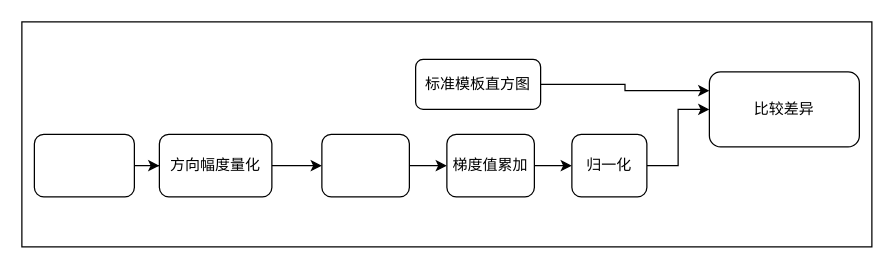
Some shapes in this 894 by 269 pixel diagram are drawn without their labels. Here are the shapes that lost their labels. From the top down, the centre of each, then its label:
the point at 83,165: 梯度运算
the point at 365,165: 方向分bin
